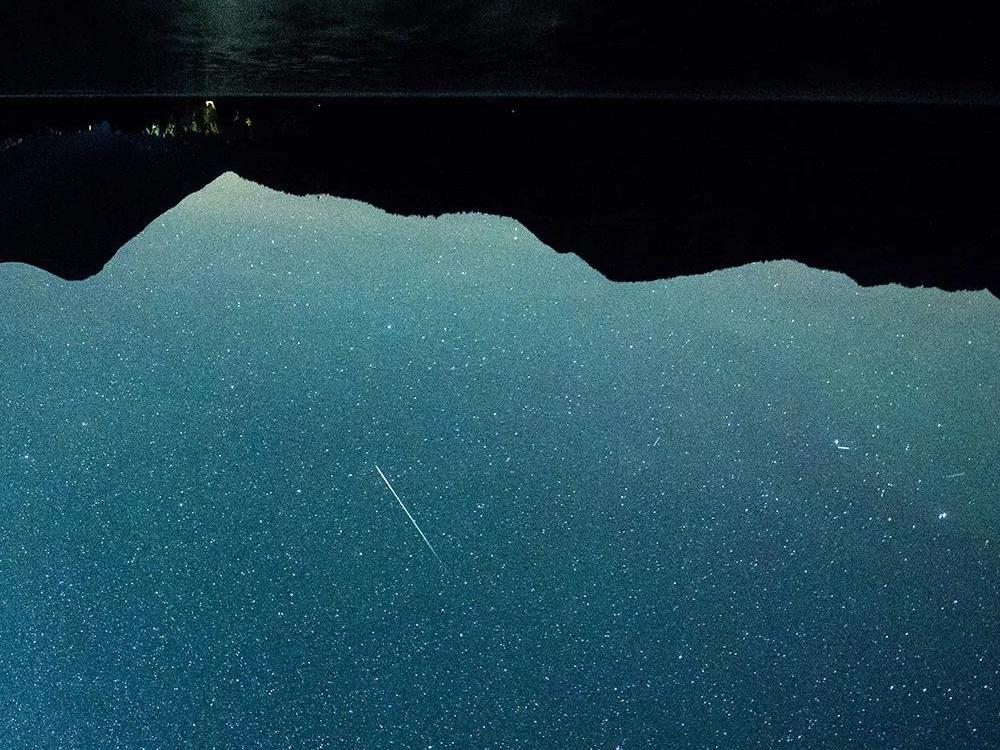meteorite: (322, 442, 473, 581), (828, 443, 856, 454)
